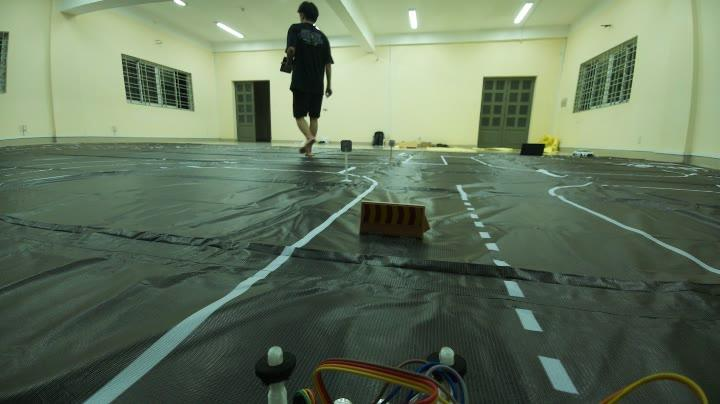roadblock: (342, 192, 439, 252)
